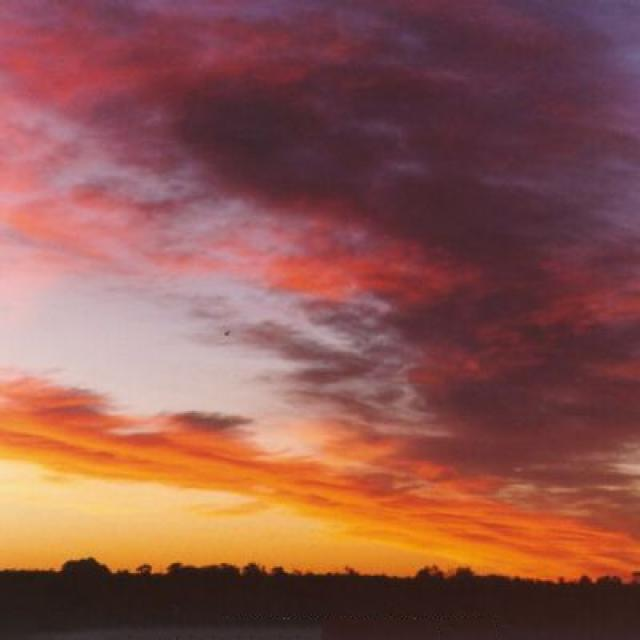As: (1, 18, 640, 539)
